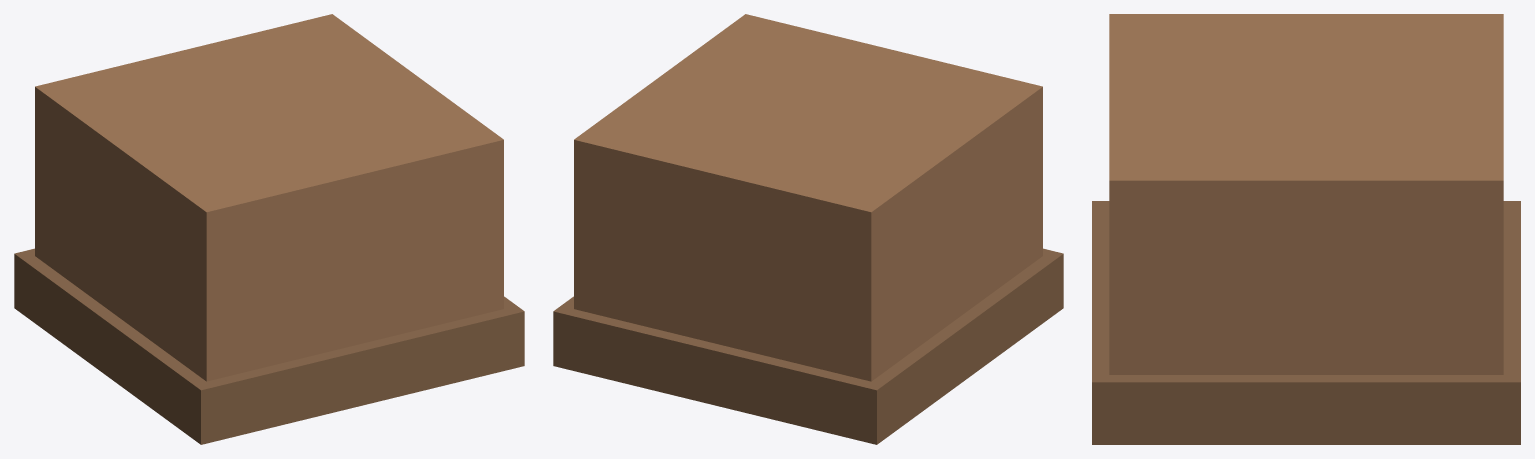
File: cacador_manga_inf.glb
The picture shows the model from 3 angles, left to right: view 1: azimuth 30°, elevation 25°; view 2: azimuth 150°, elevation 25°; view 3: azimuth 270°, elevation 25°; orthographic projection. The views are drawn at different scales.
Visible parts, largest first — view 1: cacador_manga_inf; view 2: cacador_manga_inf; view 3: cacador_manga_inf.
Part boxes in pixels (x1,y1,x2,y2): cacador_manga_inf: (14,14,524,444); cacador_manga_inf: (553,14,1063,444); cacador_manga_inf: (1092,14,1520,444).
Bounding box in the file's own units: 0.31 × 0.21 × 0.31.
